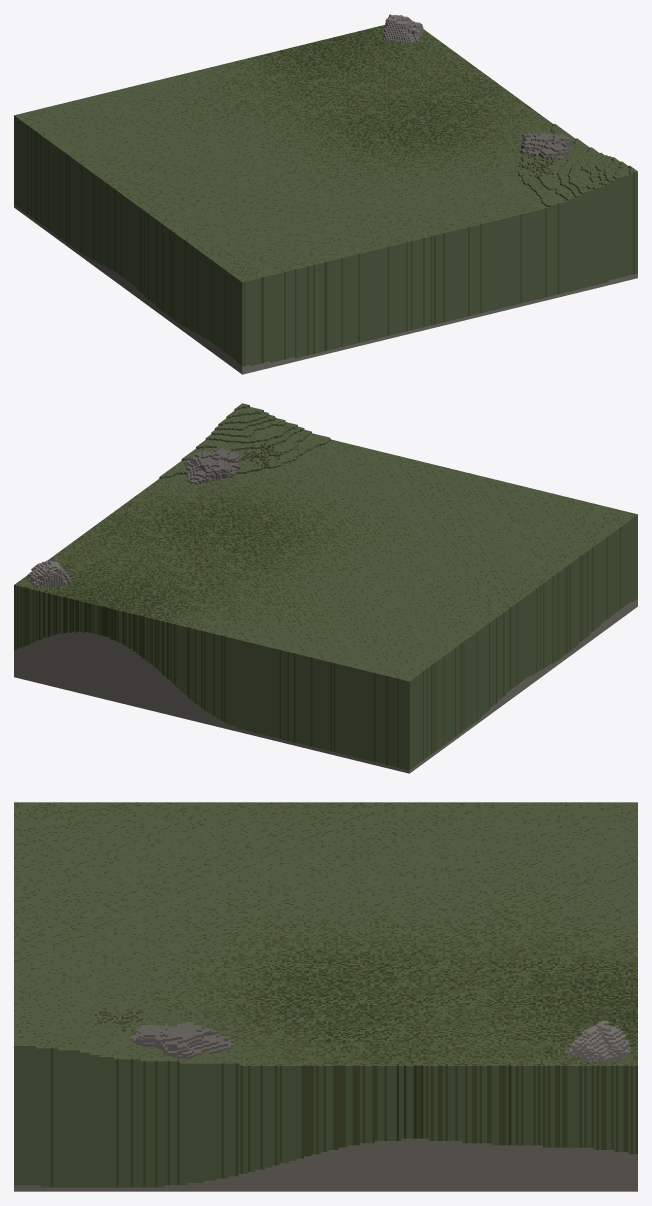
File: Combined Desert(3)-4-tile 5.obj
3 views of the same model, one above another, from view 1: azimuth 30°, elevation 25°; view 2: azimuth 150°, elevation 25°; view 3: azimuth 270°, elevation 25° (orthographic). The views are drawn at different scales.
Visible parts, largest first — view 1: tile 5; view 2: tile 5; view 3: tile 5.
Part boxes in pixels (x1=…): tile 5: x1=14, y1=14, x2=637, y2=374; tile 5: x1=14, y1=403, x2=637, y2=773; tile 5: x1=14, y1=802, x2=637, y2=1191.
Bounding box in the file's own units: 25.6 × 6.7 × 25.6.
Materials: 1 (1 with a texture image).
